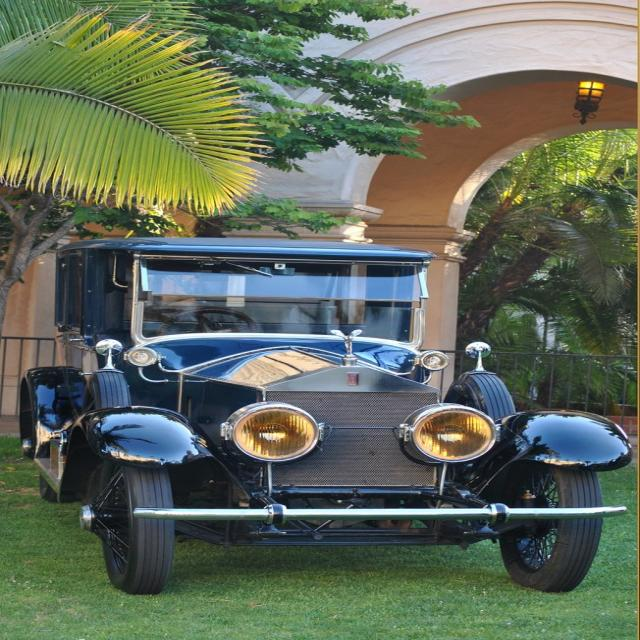car: (13, 232, 635, 595)
